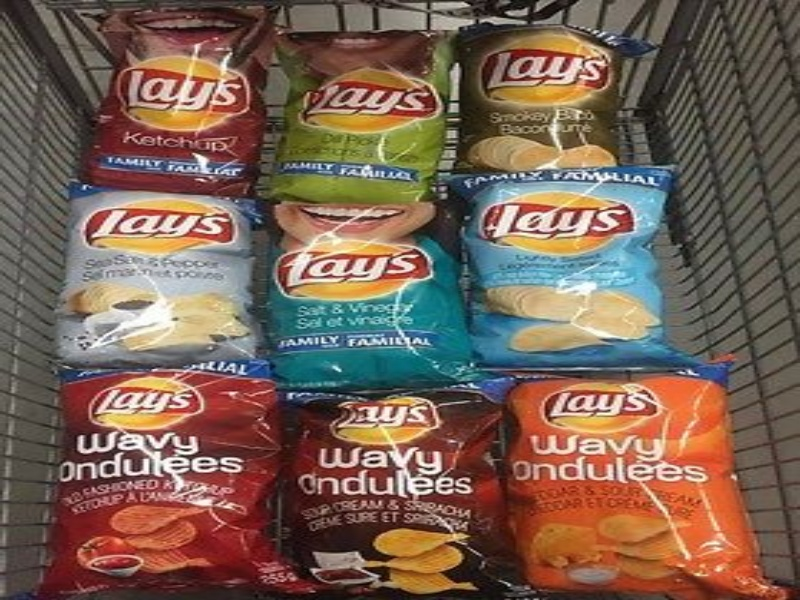lays-large: (521, 369, 741, 591), (54, 375, 270, 593), (284, 393, 490, 600), (475, 163, 674, 375), (60, 190, 269, 369), (270, 191, 446, 394), (82, 9, 271, 184), (272, 1, 438, 184), (454, 29, 629, 171)
